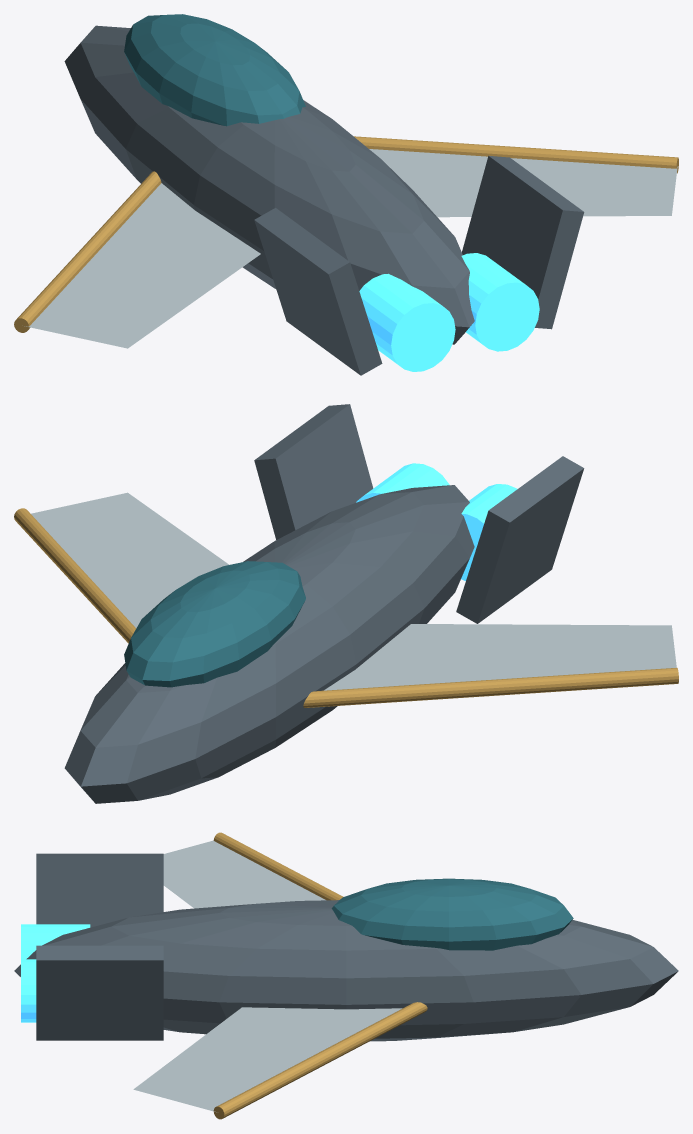
Rendered from stealth-wing.glb.
3 renders of one model, top to bottom at view 1: azimuth 30°, elevation 25°; view 2: azimuth 150°, elevation 25°; view 3: azimuth 270°, elevation 25°, orthographic. The views are drawn at different scales.
Visible parts, largest first — view 1: streamlined fuselage, swept main wing, cockpit, tail stabilizer.001, swept main wing.001, tail stabilizer, exhaust, exhaust.001, wing edge accent.001, wing edge accent; view 2: streamlined fuselage, swept main wing, cockpit, swept main wing.001, tail stabilizer, tail stabilizer.001, wing edge accent, wing edge accent.001, exhaust, exhaust.001; view 3: streamlined fuselage, cockpit, swept main wing.001, tail stabilizer.001, tail stabilizer, swept main wing, wing edge accent.001, wing edge accent, exhaust, exhaust.001.
Part boxes in pixels (x1,y1,x2,y2): streamlined fuselage: [64, 25, 474, 344]; swept main wing: [24, 183, 260, 348]; cockpit: [124, 14, 305, 126]; tail stabilizer.001: [462, 155, 584, 329]; swept main wing.001: [369, 149, 677, 217]; tail stabilizer: [254, 208, 382, 375]; exhaust: [359, 273, 455, 371]; exhaust.001: [461, 253, 539, 351]; wing edge accent.001: [354, 136, 678, 173]; wing edge accent: [14, 171, 161, 332]; streamlined fuselage: [64, 485, 474, 803]; swept main wing: [324, 624, 676, 690]; cockpit: [124, 561, 305, 687]; swept main wing.001: [31, 492, 229, 628]; tail stabilizer: [456, 456, 584, 623]; tail stabilizer.001: [254, 404, 373, 539]; wing edge accent: [303, 667, 678, 707]; wing edge accent.001: [14, 508, 136, 643]; exhaust: [461, 484, 517, 580]; exhaust.001: [356, 463, 449, 502]; streamlined fuselage: [14, 900, 678, 1041]; cockpit: [331, 878, 573, 950]; swept main wing.001: [133, 1007, 402, 1112]; tail stabilizer.001: [36, 945, 163, 1040]; tail stabilizer: [36, 853, 163, 927]; swept main wing: [163, 840, 325, 908]; wing edge accent.001: [213, 1002, 427, 1119]; wing edge accent: [213, 832, 343, 900]; exhaust: [21, 924, 90, 959]; exhaust.001: [21, 959, 36, 1022].
Bounding box in the file's own units: 2.37 × 0.59 × 2.4.
